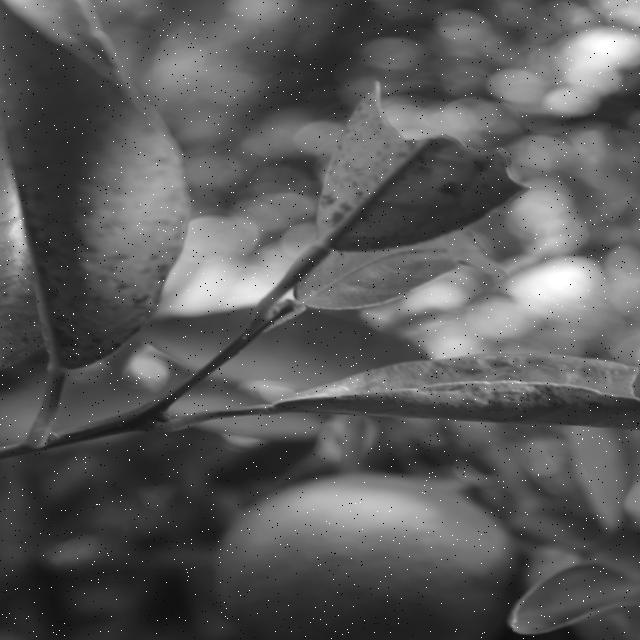melanose: (0, 36, 191, 389), (297, 74, 523, 266), (261, 346, 640, 432)
